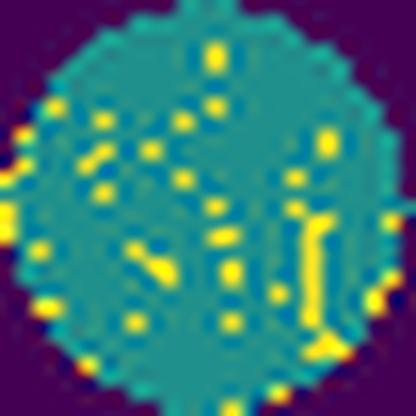Scratch: (293, 208, 344, 335)
